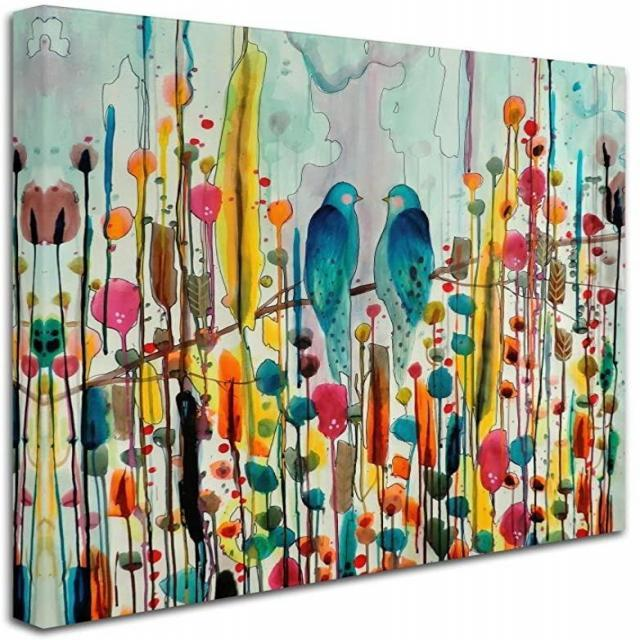painting: (12, 6, 626, 629)
